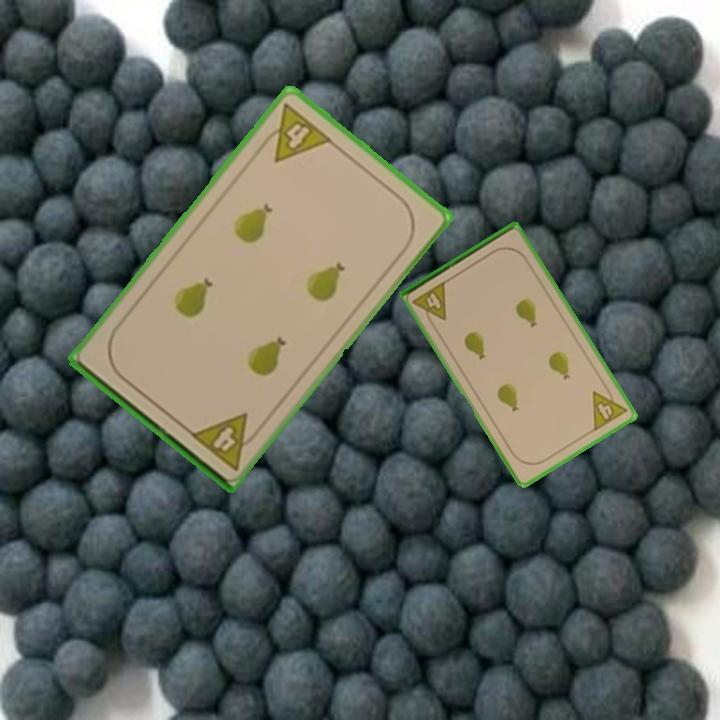4p: (254, 99, 335, 165), (186, 409, 265, 473), (589, 381, 630, 434), (409, 278, 450, 329)
